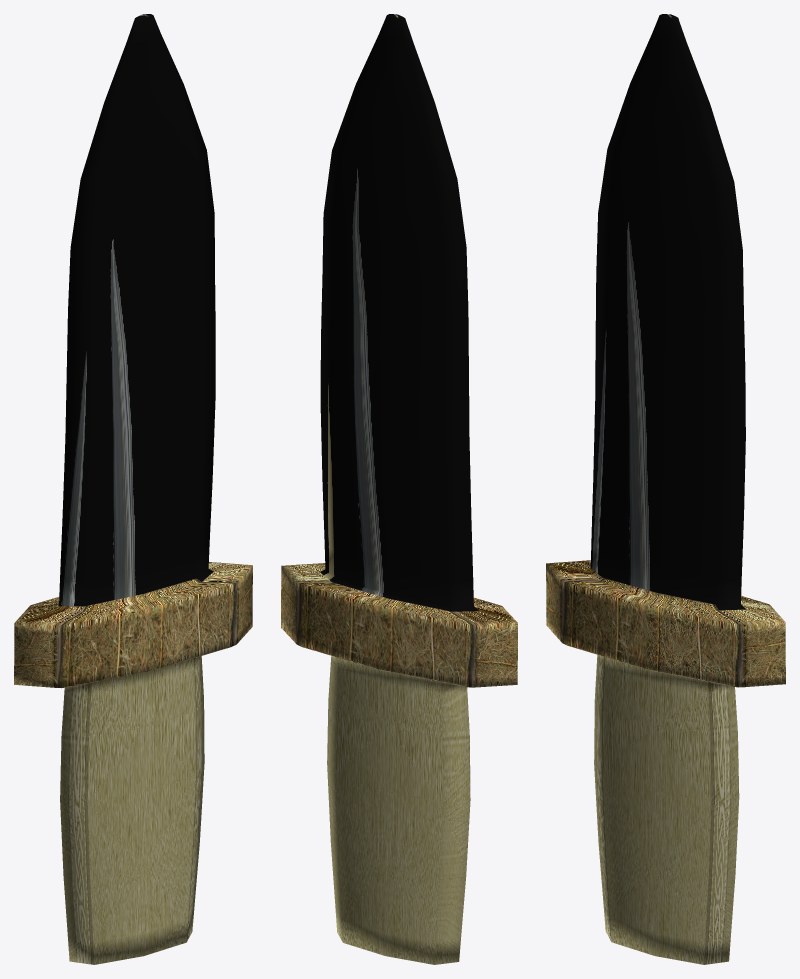
Rendered from AncientWarriorBlade_drop.FBX.
3 renders of one model, left to right at view 1: azimuth 30°, elevation 25°; view 2: azimuth 150°, elevation 25°; view 3: azimuth 330°, elevation 25°, orthographic.
Parts seen in each view (by area): view 1: Box001; view 2: Box001; view 3: Box001.
Boxes of the visible parts, x1,y1,x2,y2 form: Box001: (14,14,252,964); Box001: (281,14,517,964); Box001: (546,14,785,964).
Size of the model in its own units: 33.58 by 9.13 by 126.
